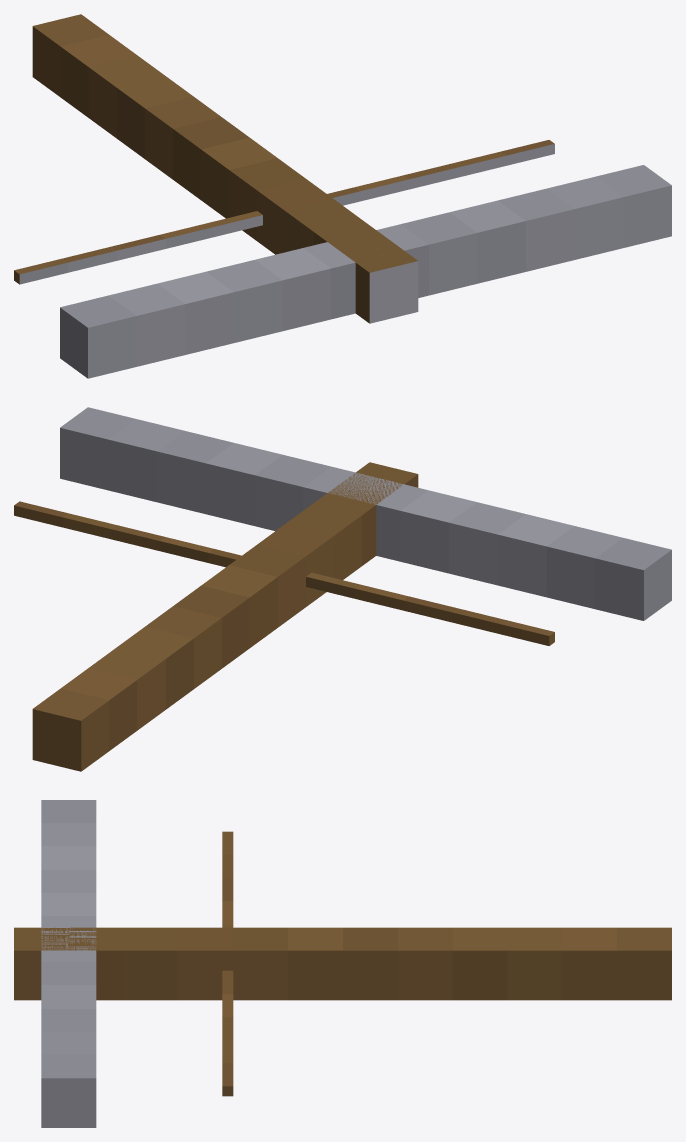
The model's file is crossbow.fbx.
3 renders of one model, top to bottom at view 1: azimuth 30°, elevation 25°; view 2: azimuth 150°, elevation 25°; view 3: azimuth 270°, elevation 25°, orthographic. The views are drawn at different scales.
Parts seen in each view (by area): view 1: crossbow; view 2: crossbow; view 3: crossbow.
Boxes of the visible parts, bbox=[...] form: crossbow: bbox=[14, 14, 671, 378]; crossbow: bbox=[14, 407, 671, 771]; crossbow: bbox=[14, 800, 671, 1127].
Size of the model in its own units: 0.75 by 0.0625 by 0.75.
Materials: 1 (1 with a texture image).
